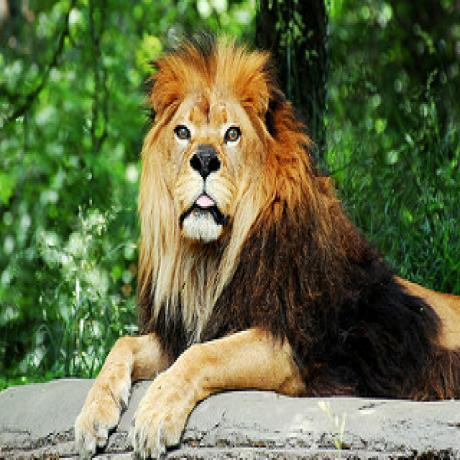Lion: (75, 39, 460, 460)
